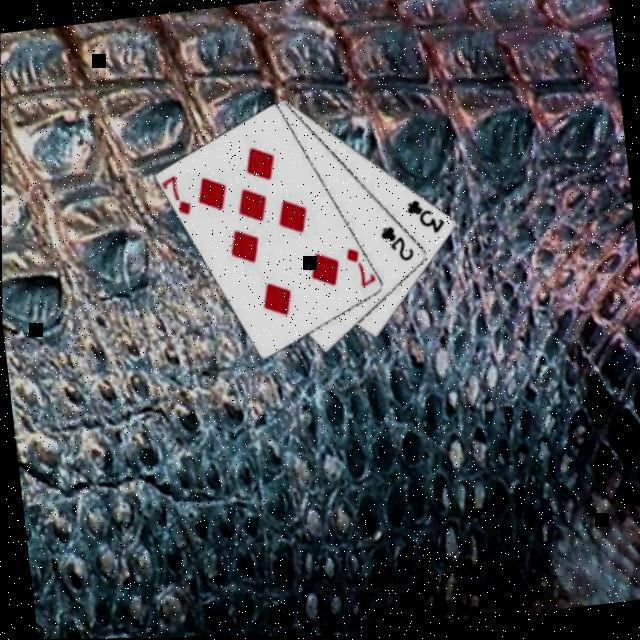2C: (374, 219, 414, 265)
3C: (400, 193, 446, 239)
7D: (156, 169, 192, 218), (339, 241, 374, 290)
